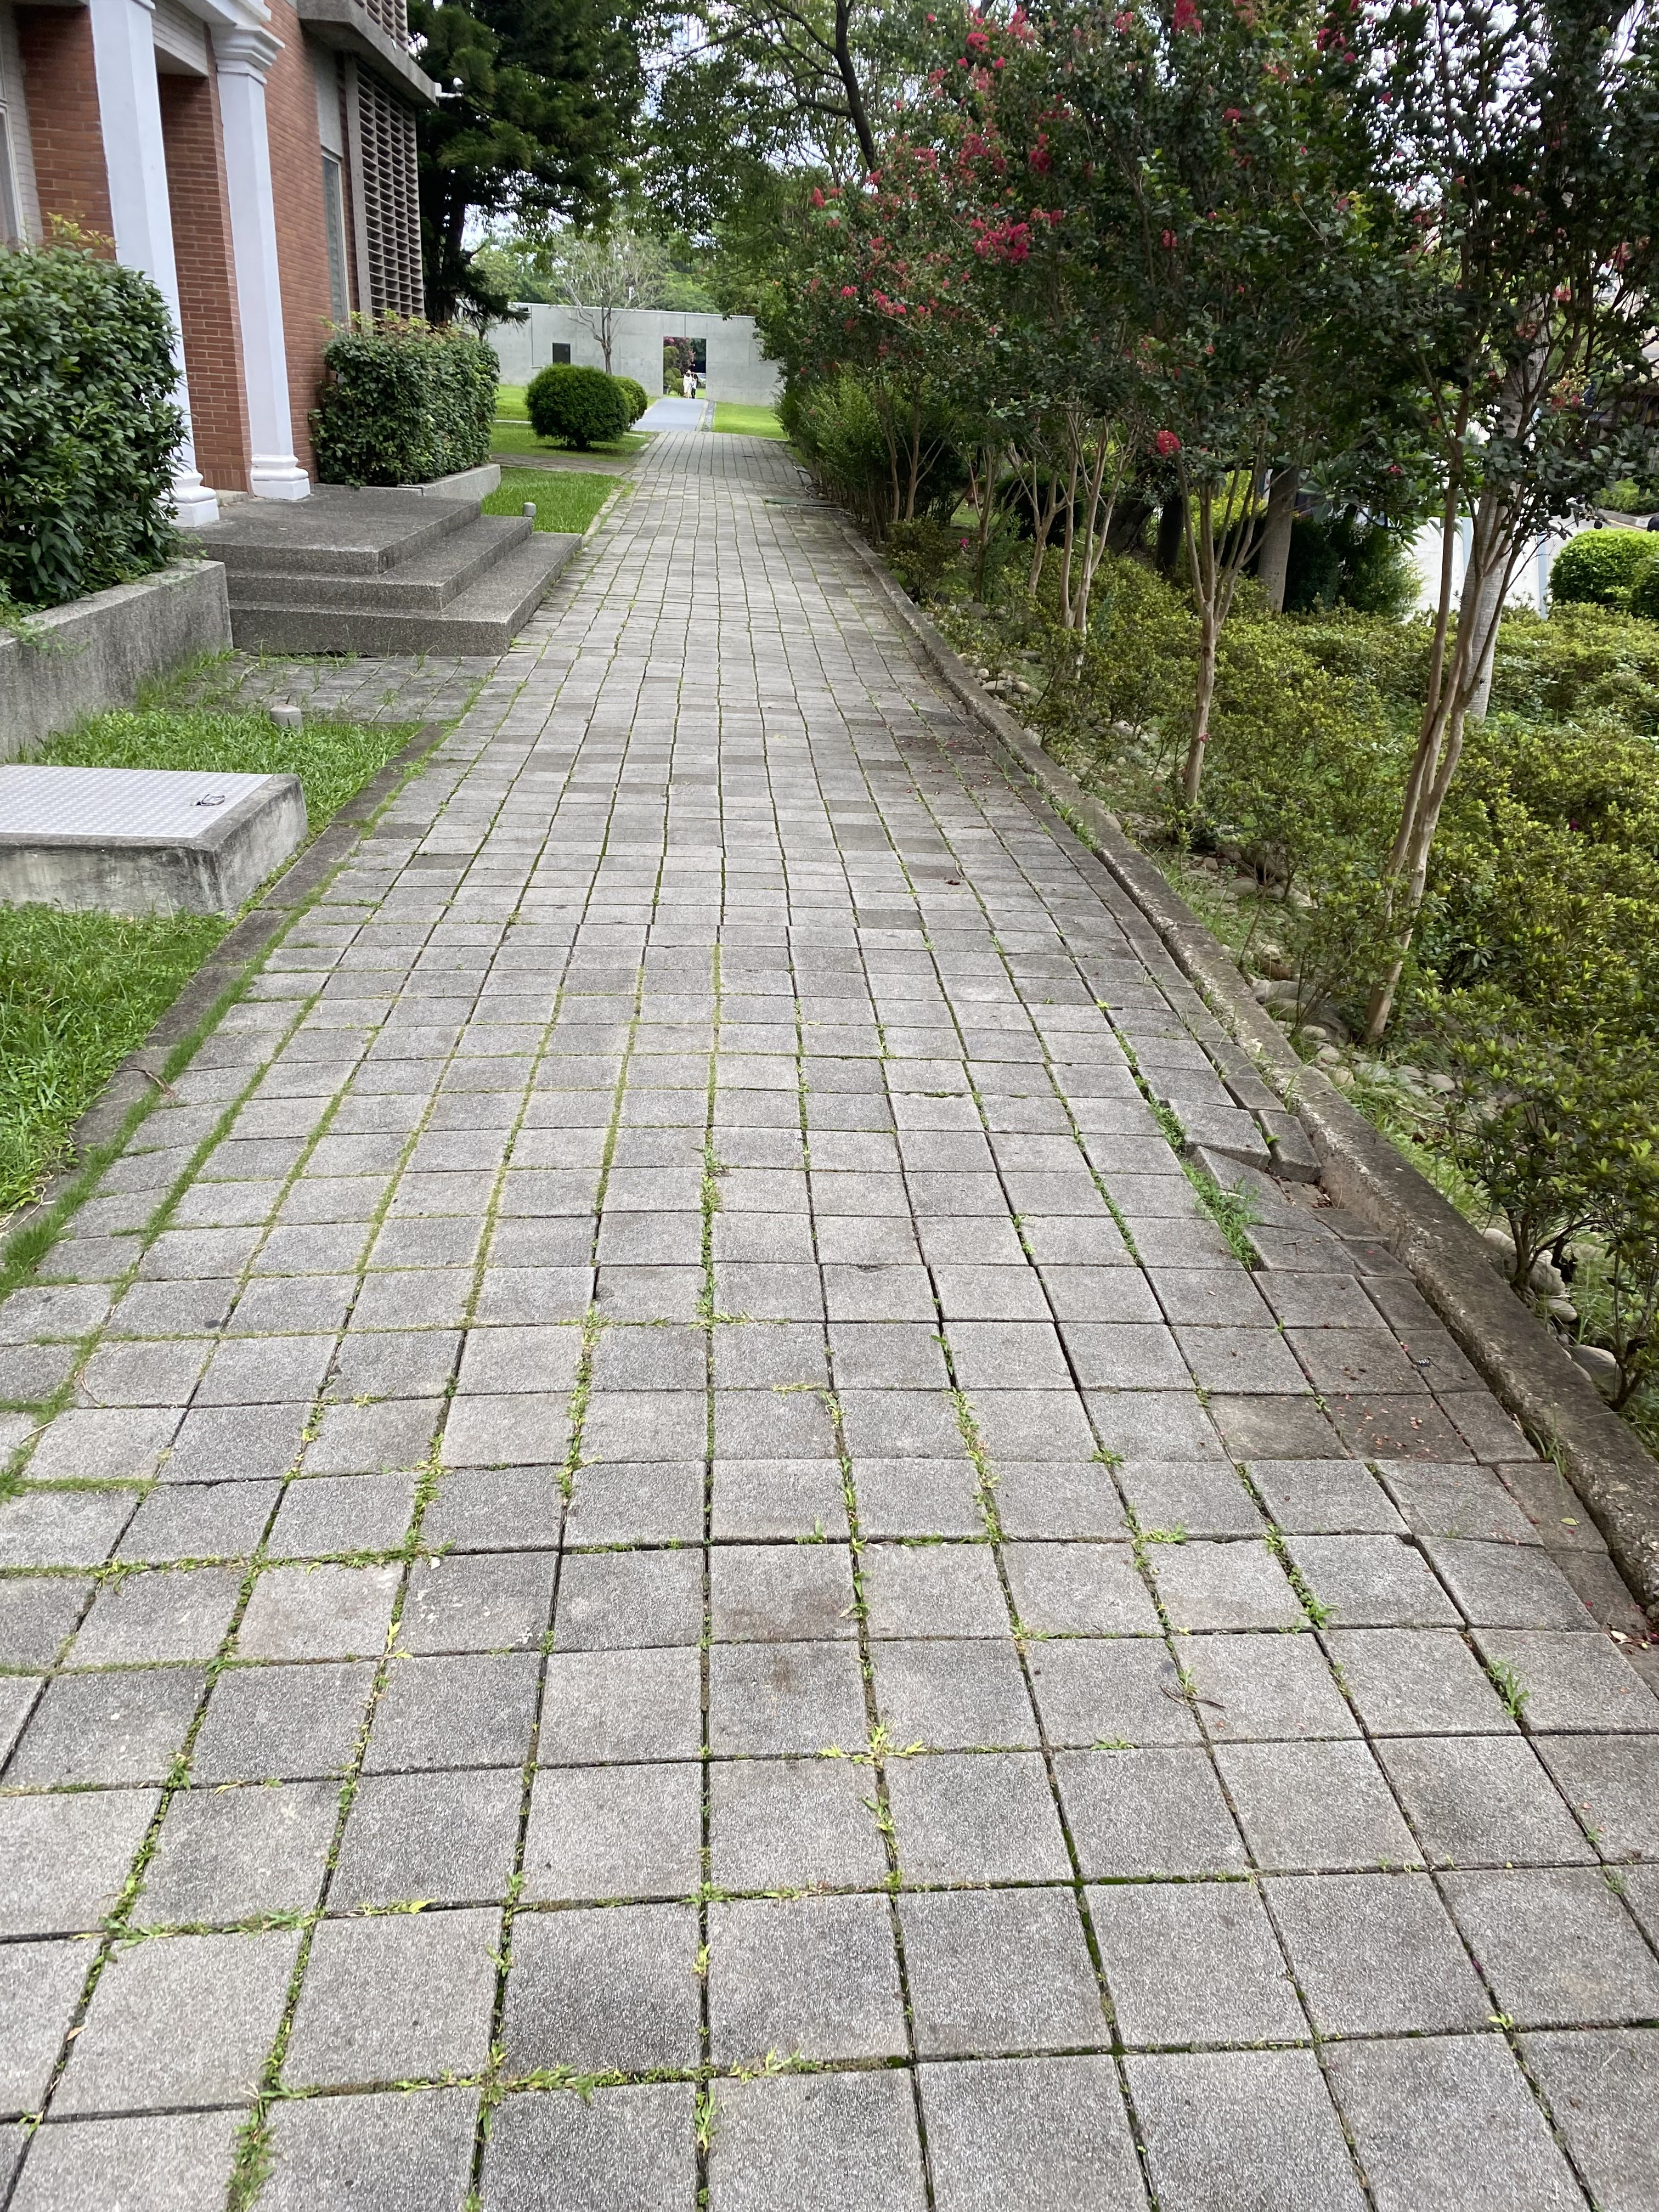0: (30, 475, 1659, 2212)
sidewalk: (589, 397, 852, 1630)
